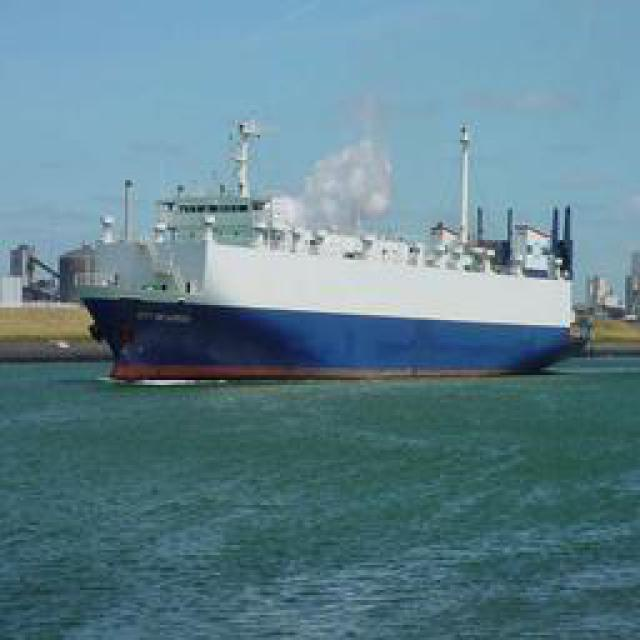Ship: (63, 102, 598, 382)
